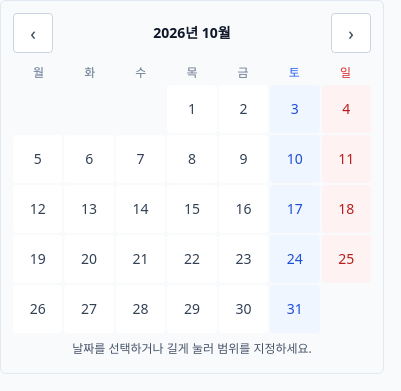
Test: InlineMonthCalendar › 이전 달과 다음 달로 이동할 수 있다
Click the button named "이전 달": (33, 33) [13,13,53,53]
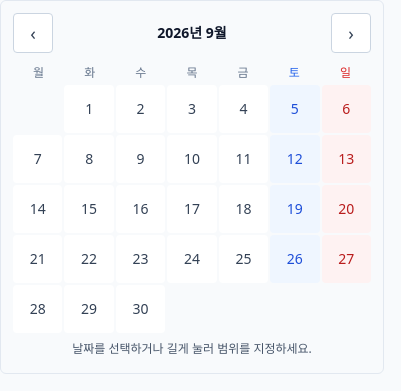
Expected: the text "2026년 9월" is shown, [157,23,227,43]
Click the button named "다음 달": (351, 33) [331,13,371,53]
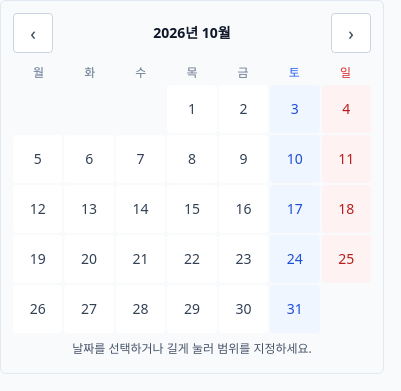
Expected: the text "2026년 10월" is shown, [153,23,231,43]
